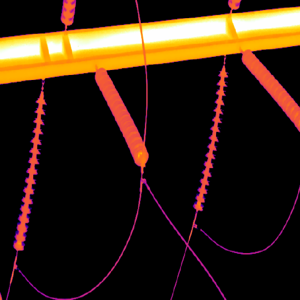insulator: (93, 66, 148, 165), (13, 89, 46, 253), (241, 47, 300, 131), (194, 65, 227, 211), (60, 0, 75, 25)
